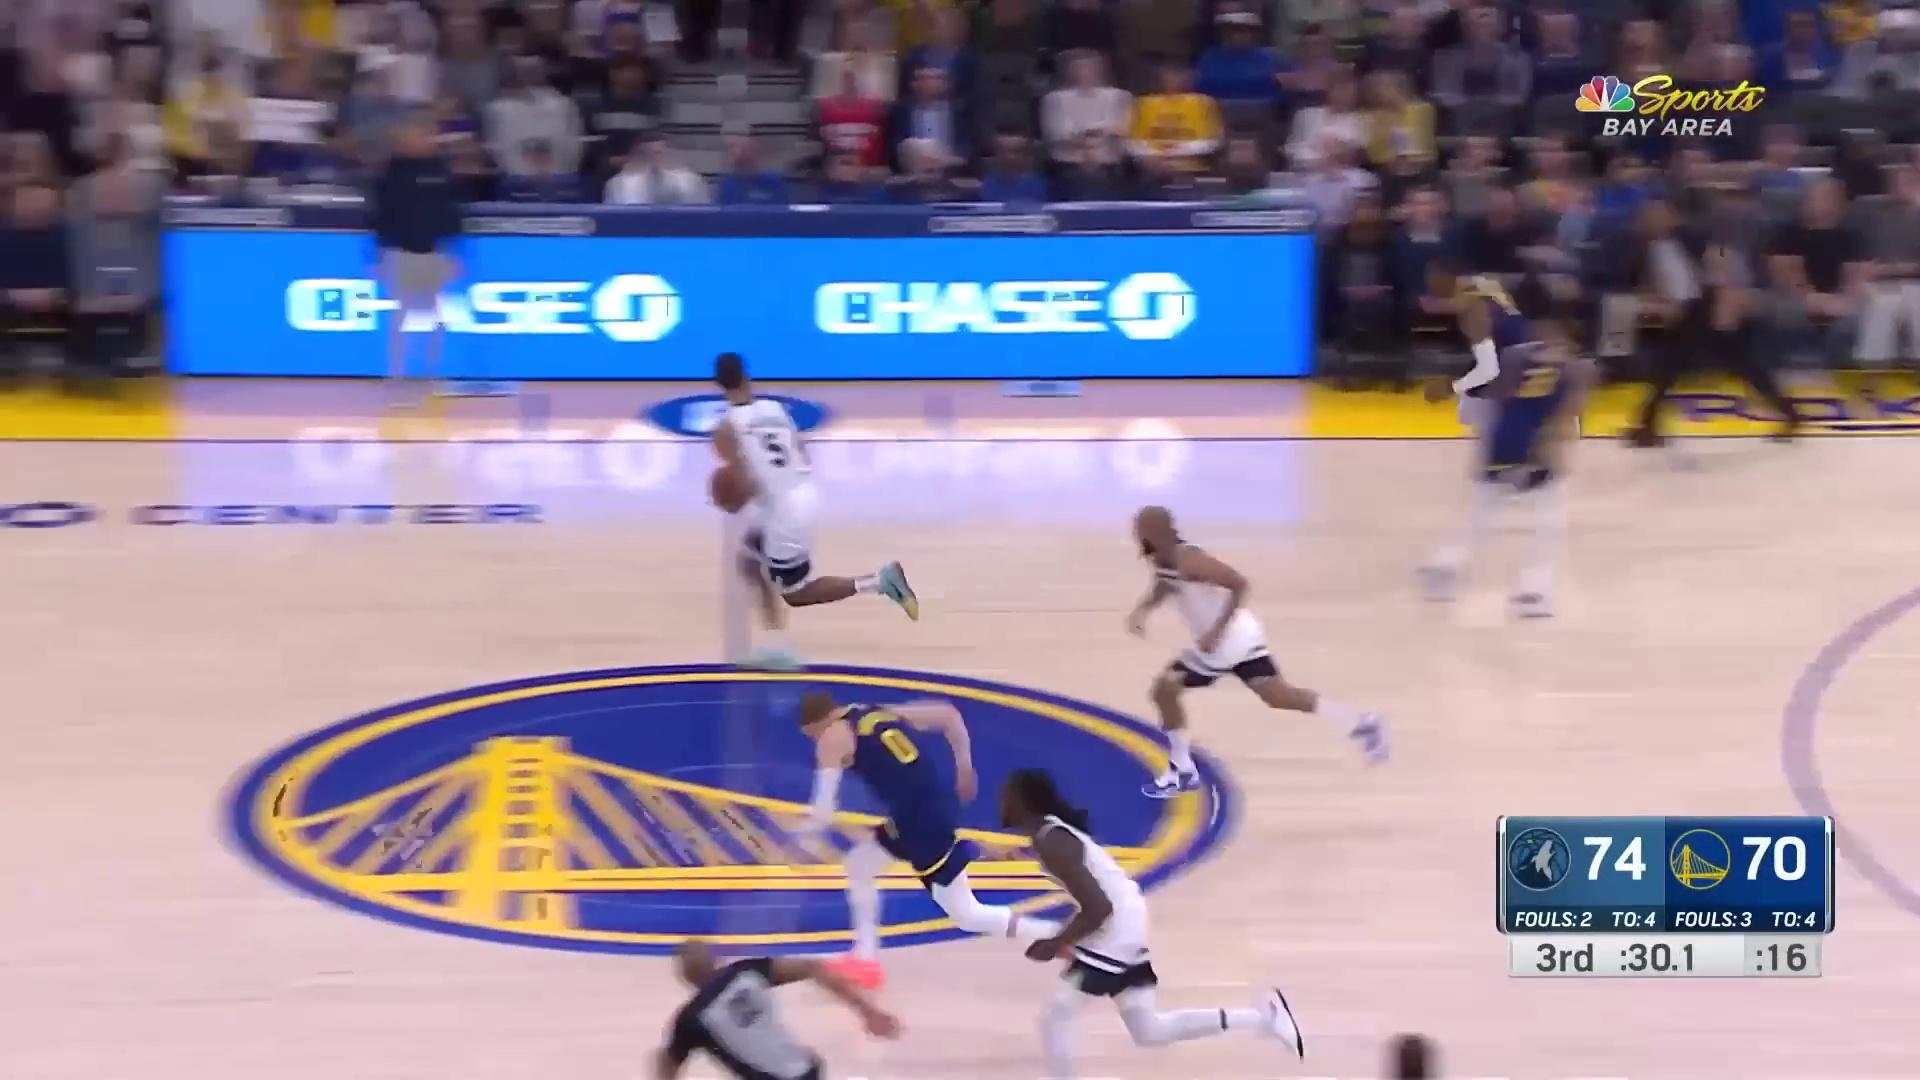Ball: (706, 461, 758, 518)
Player: (993, 768, 1313, 1080), (793, 674, 1096, 991), (1121, 491, 1391, 808), (704, 346, 928, 669), (1421, 311, 1573, 629), (1418, 266, 1558, 494)
